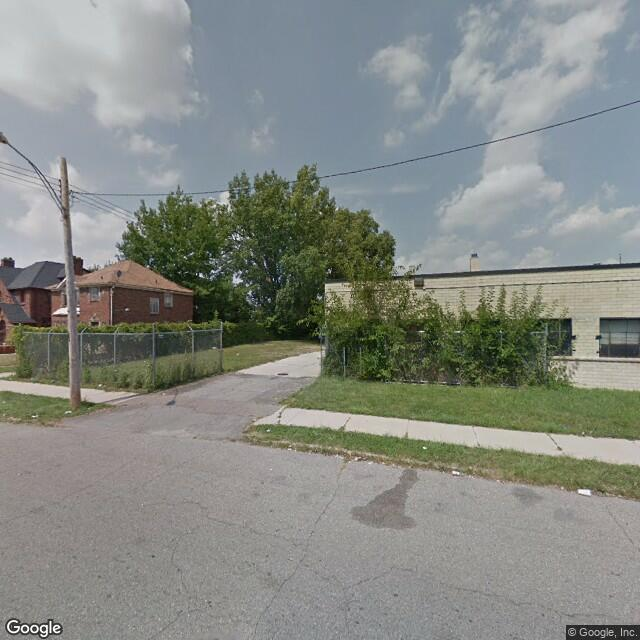litter: (450, 469, 467, 478), (576, 490, 595, 498), (348, 455, 368, 461), (24, 413, 41, 420), (160, 389, 169, 397), (93, 381, 103, 388), (62, 409, 74, 414), (418, 446, 429, 451), (261, 428, 273, 432)
